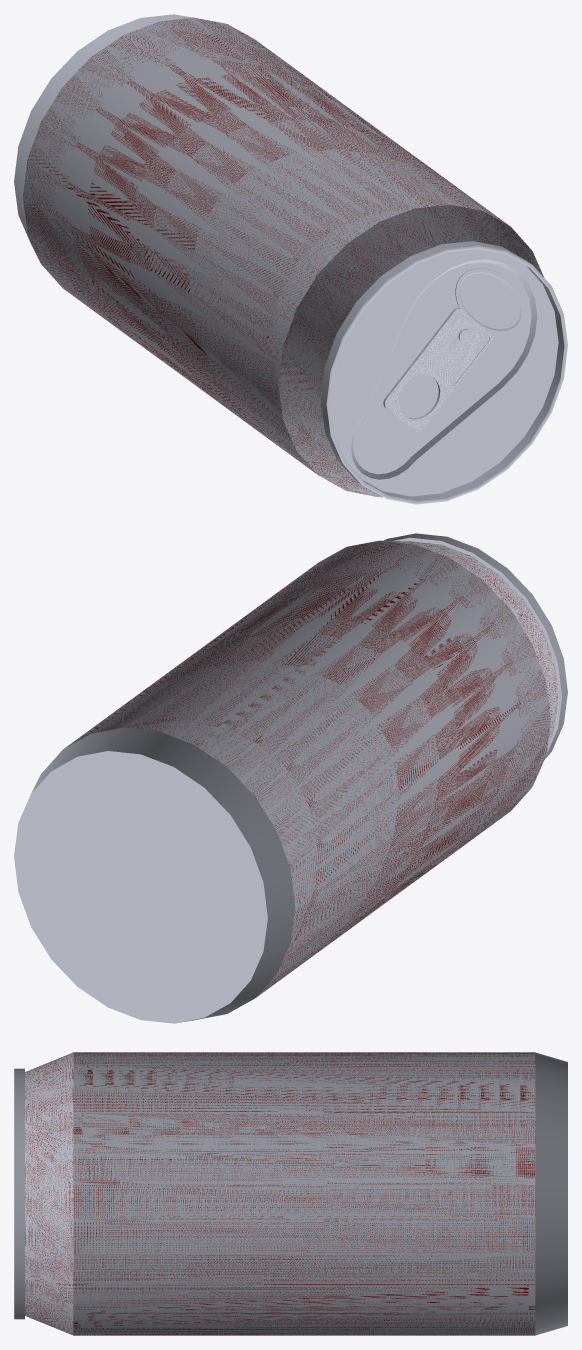
File: model_scale.obj
3 renders of one model, top to bottom at view 1: azimuth 30°, elevation 25°; view 2: azimuth 150°, elevation 25°; view 3: azimuth 270°, elevation 25°, orthographic. The views are drawn at different scales.
Parts seen in each view (by area): view 1: mesh1_mesh1-geometry, mesh3_mesh3-geometry, mesh2_mesh2-geometry; view 2: mesh1_mesh1-geometry; view 3: mesh1_mesh1-geometry.
Part boxes in pixels (x1,y1,x2,y2): mesh1_mesh1-geometry: [14, 14, 567, 504]; mesh3_mesh3-geometry: [383, 308, 492, 432]; mesh2_mesh2-geometry: [455, 268, 525, 334]; mesh1_mesh1-geometry: [14, 533, 567, 1023]; mesh1_mesh1-geometry: [14, 1052, 567, 1335].
Size of the model in its own units: 0.0727 by 0.0727 by 0.1416.
